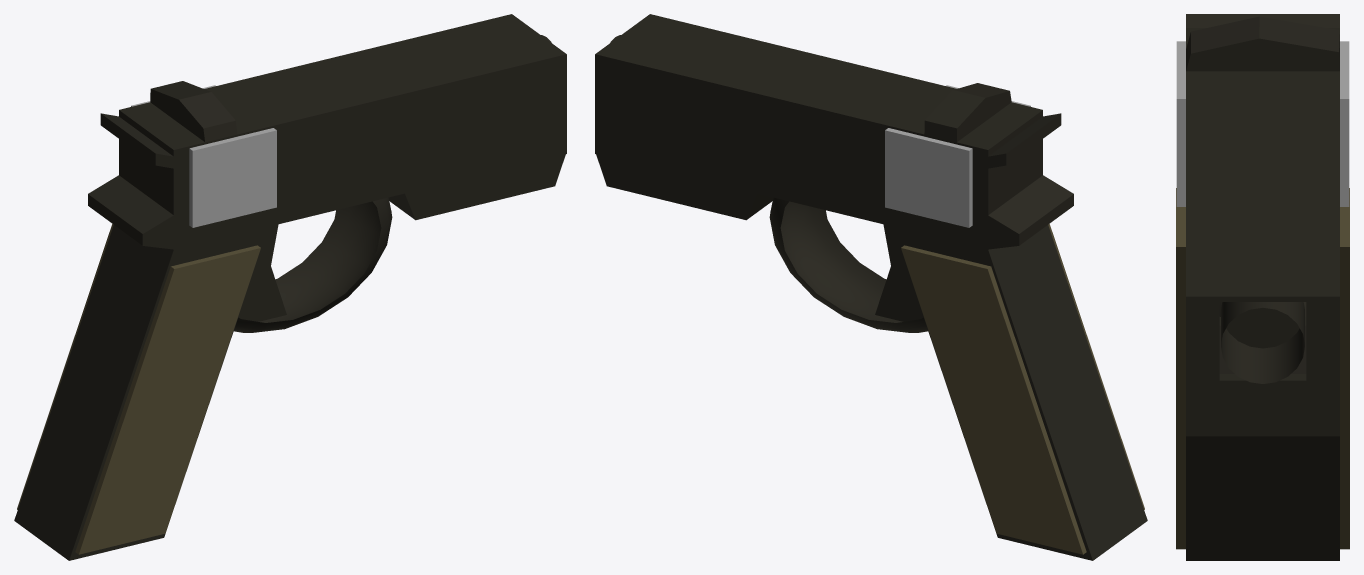
Rendered from Pistol.fbx.
The picture shows the model from 3 angles, left to right: view 1: azimuth 30°, elevation 25°; view 2: azimuth 150°, elevation 25°; view 3: azimuth 270°, elevation 25°; orthographic projection. The views are drawn at different scales.
Visible parts, largest first — view 1: Pistol_grip, Handle, Trigger_protector, deceration, Trigger; view 2: Pistol_grip, Handle, Trigger_protector, deceration, Trigger; view 3: Pistol_grip, Handle, Barrel, deceration.
Part boxes in pixels (left/top/right/bottom): Pistol_grip: left=14, top=14, right=566, bottom=560; Handle: left=17, top=224, right=260, bottom=554; Trigger_protector: left=234, top=197, right=392, bottom=332; deceration: left=131, top=85, right=276, bottom=227; Trigger: left=238, top=224, right=286, bottom=321; Pistol_grip: left=595, top=14, right=1147, bottom=560; Handle: left=901, top=224, right=1144, bottom=554; Trigger_protector: left=769, top=197, right=927, bottom=332; deceration: left=885, top=85, right=1030, bottom=227; Trigger: left=875, top=224, right=923, bottom=321; Pistol_grip: left=1186, top=14, right=1339, bottom=560; Handle: left=1176, top=188, right=1349, bottom=549; Barrel: left=1221, top=302, right=1304, bottom=383; deceration: left=1176, top=41, right=1349, bottom=206.
Size of the model in its own units: 8.59 by 6.65 by 1.83.
